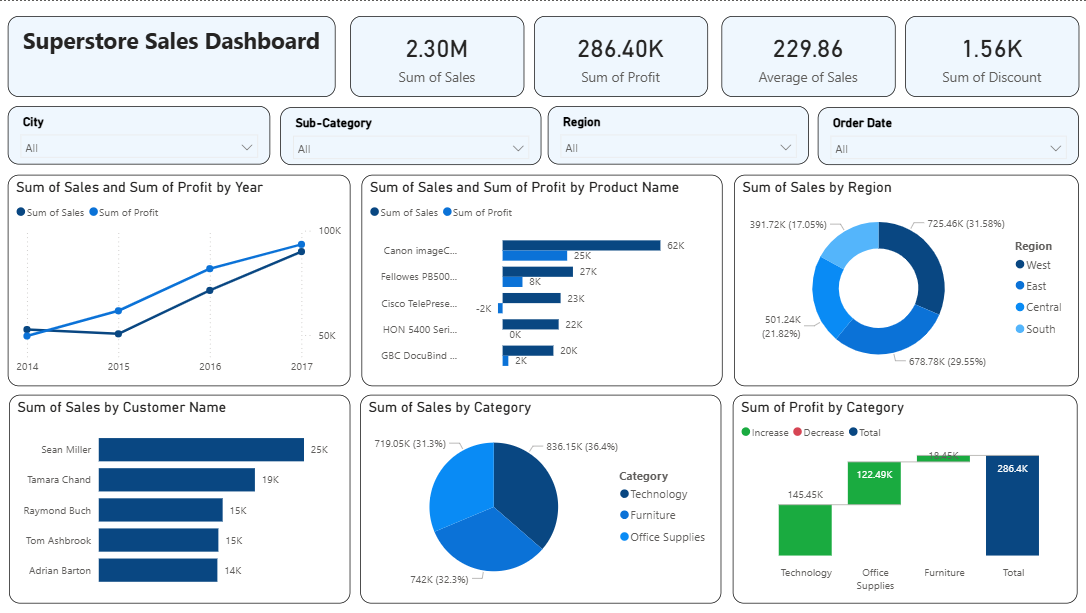

The dashboard page shown, as its layout file describes it:
{"tool":"powerbi","page":{"name":"Page 1","canvas":[1280,720],"ordinal":0},"visuals":[{"type":"card","fields":{"Values":["Sum(Sample - Superstore.Sales)"]},"box":[413.2,17.6,204.4,95.6],"z":0},{"type":"card","fields":{"Values":["Sum(Sample - Superstore.Profit)"]},"box":[629.4,17.6,204.4,95.6],"z":1000},{"type":"card","fields":{"Values":["Avg(Sample - Superstore.Sales)"]},"box":[850,17.6,204.4,95.6],"z":2000},{"type":"card","fields":{"Values":["Sum(Sample - Superstore.Discount)"]},"box":[1066.2,17.6,204.4,95.6],"z":3000},{"type":"lineChart","fields":{"Y":["Sum(Sample - Superstore.Sales)"],"Y2":["Sum(Sample - Superstore.Profit)"],"Category":["Sample - Superstore.Order Date.Variation.Date Hierarchy.Year"]},"box":[10.3,204.4,402.9,248.5],"z":4000},{"type":"clusteredBarChart","fields":{"Category":["Sample - Superstore.Product Name"],"Y":["Sum(Sample - Superstore.Sales)","Sum(Sample - Superstore.Profit)"]},"box":[426.5,204.4,425,248.5],"z":5000},{"type":"pieChart","fields":{"Y":["Sum(Sample - Superstore.Sales)"],"Category":["Sample - Superstore.Category"]},"box":[425,463.2,425,245.6],"z":6000},{"type":"clusteredBarChart","fields":{"Category":["Sample - Superstore.Customer Name"],"Y":["Sum(Sample - Superstore.Sales)"]},"box":[11.8,463.2,401.5,245.6],"z":7000},{"type":"donutChart","fields":{"Category":["Sample - Superstore.Region"],"Y":["Sum(Sample - Superstore.Sales)"]},"box":[864.7,204.4,405.9,248.5],"z":8000},{"type":"waterfallChart","fields":{"Category":["Sample - Superstore.Category"],"Y":["Sum(Sample - Superstore.Profit)"]},"box":[863.2,463.2,405.9,245.6],"z":9000},{"type":"textbox","box":[10.3,17.6,385.3,95.6],"z":10000},{"type":"slicer","fields":{"Values":["Sample - Superstore.City"]},"box":[10.3,123.5,308.8,69.1],"z":11000},{"type":"slicer","fields":{"Values":["Sample - Superstore.Sub-Category"]},"box":[330.9,125,307.4,67.6],"z":12000},{"type":"slicer","fields":{"Values":["Sample - Superstore.Region"]},"box":[645.6,123.5,307.4,69.1],"z":13000},{"type":"slicer","fields":{"Values":["Sample - Superstore.Order Date"]},"box":[963.2,125,307.4,67.6],"z":14000}]}

Visuals, with their boxes in screenshot pixels (x1, y1, x2, y2), scaled from the page's 1280x720 canvas onto the 1086x613 screenshot:
card - Sum(Sample - Superstore.Sales): crop(351, 15, 524, 96)
card - Sum(Sample - Superstore.Profit): crop(534, 15, 707, 96)
card - Avg(Sample - Superstore.Sales): crop(721, 15, 895, 96)
card - Sum(Sample - Superstore.Discount): crop(905, 15, 1078, 96)
lineChart - Sum(Sample - Superstore.Sales) x Sum(Sample - Superstore.Profit): crop(9, 174, 351, 386)
clusteredBarChart - Sample - Superstore.Product Name x Sum(Sample - Superstore.Sales): crop(362, 174, 722, 386)
pieChart - Sum(Sample - Superstore.Sales) x Sample - Superstore.Category: crop(361, 394, 721, 603)
clusteredBarChart - Sample - Superstore.Customer Name x Sum(Sample - Superstore.Sales): crop(10, 394, 351, 603)
donutChart - Sample - Superstore.Region x Sum(Sample - Superstore.Sales): crop(734, 174, 1078, 386)
waterfallChart - Sample - Superstore.Category x Sum(Sample - Superstore.Profit): crop(732, 394, 1077, 603)
textbox: crop(9, 15, 336, 96)
slicer - Sample - Superstore.City: crop(9, 105, 271, 164)
slicer - Sample - Superstore.Sub-Category: crop(281, 106, 542, 164)
slicer - Sample - Superstore.Region: crop(548, 105, 809, 164)
slicer - Sample - Superstore.Order Date: crop(817, 106, 1078, 164)
